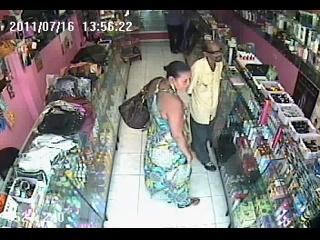Normal: (144, 60, 200, 208), (187, 39, 227, 172), (118, 76, 166, 130)
